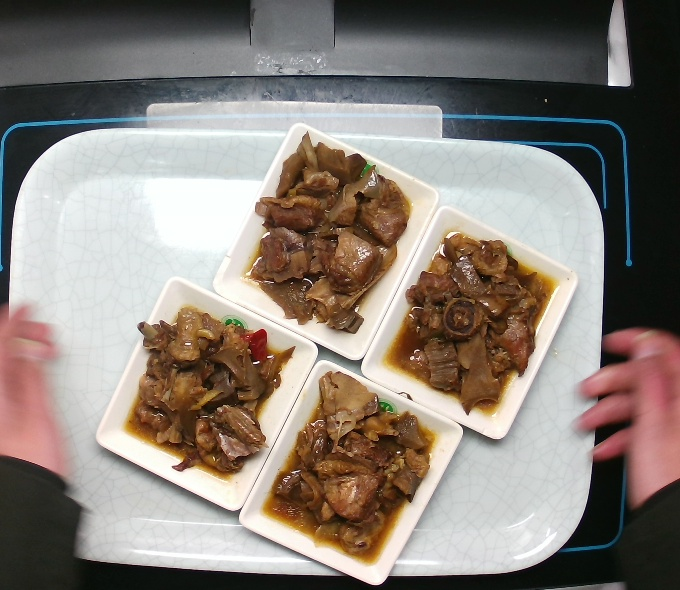wcq-YaRouSunGan: (237, 127, 417, 338), (258, 367, 445, 569), (379, 225, 561, 421), (117, 300, 298, 484)
